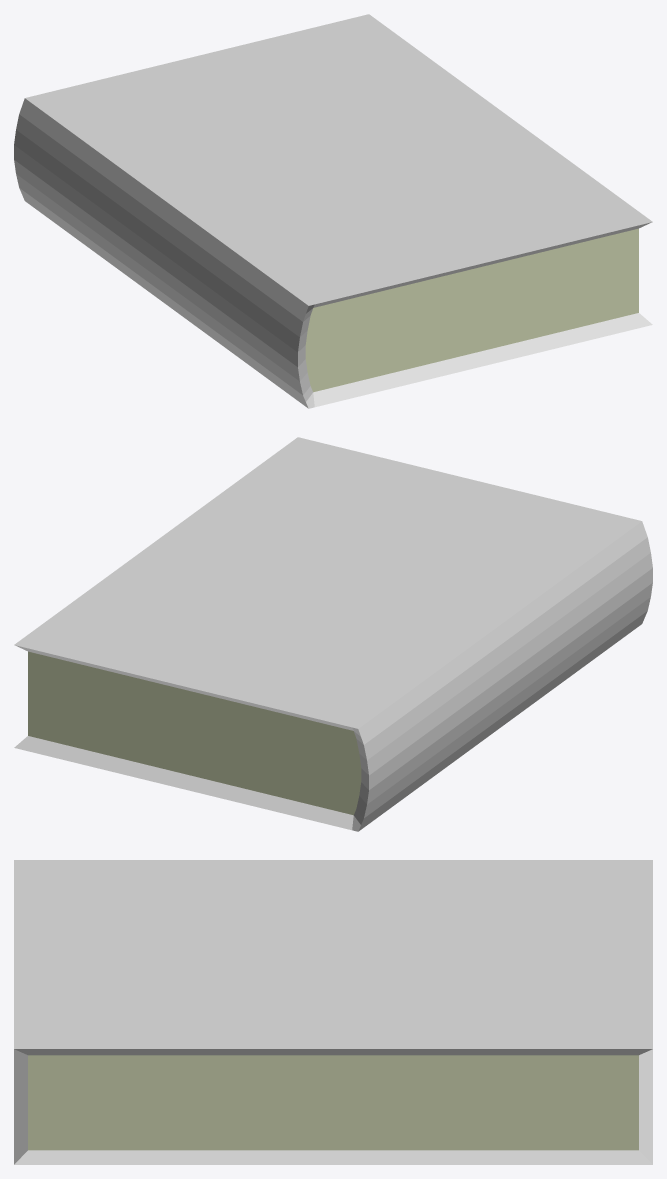
The model's file is book.fbx.
3 views of the same model, one above another, from view 1: azimuth 30°, elevation 25°; view 2: azimuth 150°, elevation 25°; view 3: azimuth 270°, elevation 25° (orthographic). The views are drawn at different scales.
Visible parts, largest first — view 1: Cube; view 2: Cube; view 3: Cube.
Boxes of the visible parts, left/top/right/bottom form: Cube: left=14, top=14, right=652, bottom=408; Cube: left=14, top=437, right=652, bottom=831; Cube: left=14, top=860, right=652, bottom=1164.
Size of the model in its own units: 14.44 by 4 by 20.
